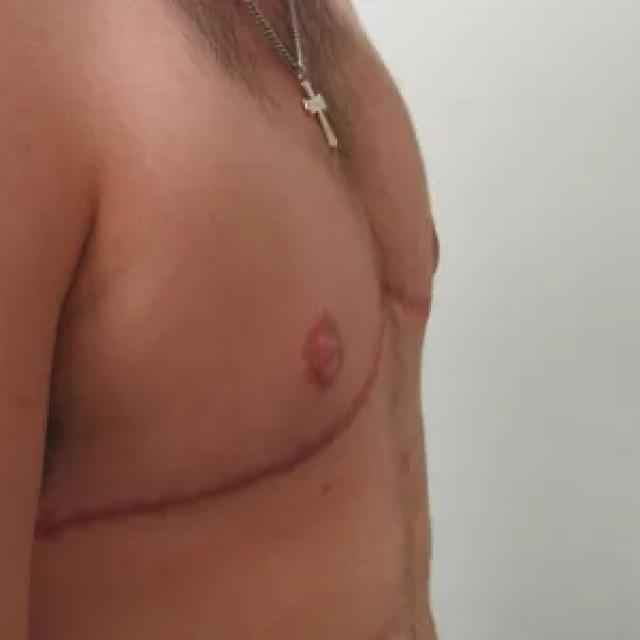Seno herido: (24, 161, 380, 581), (384, 77, 451, 345)
